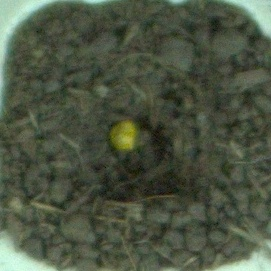chilli seed: (106, 119, 145, 151)
